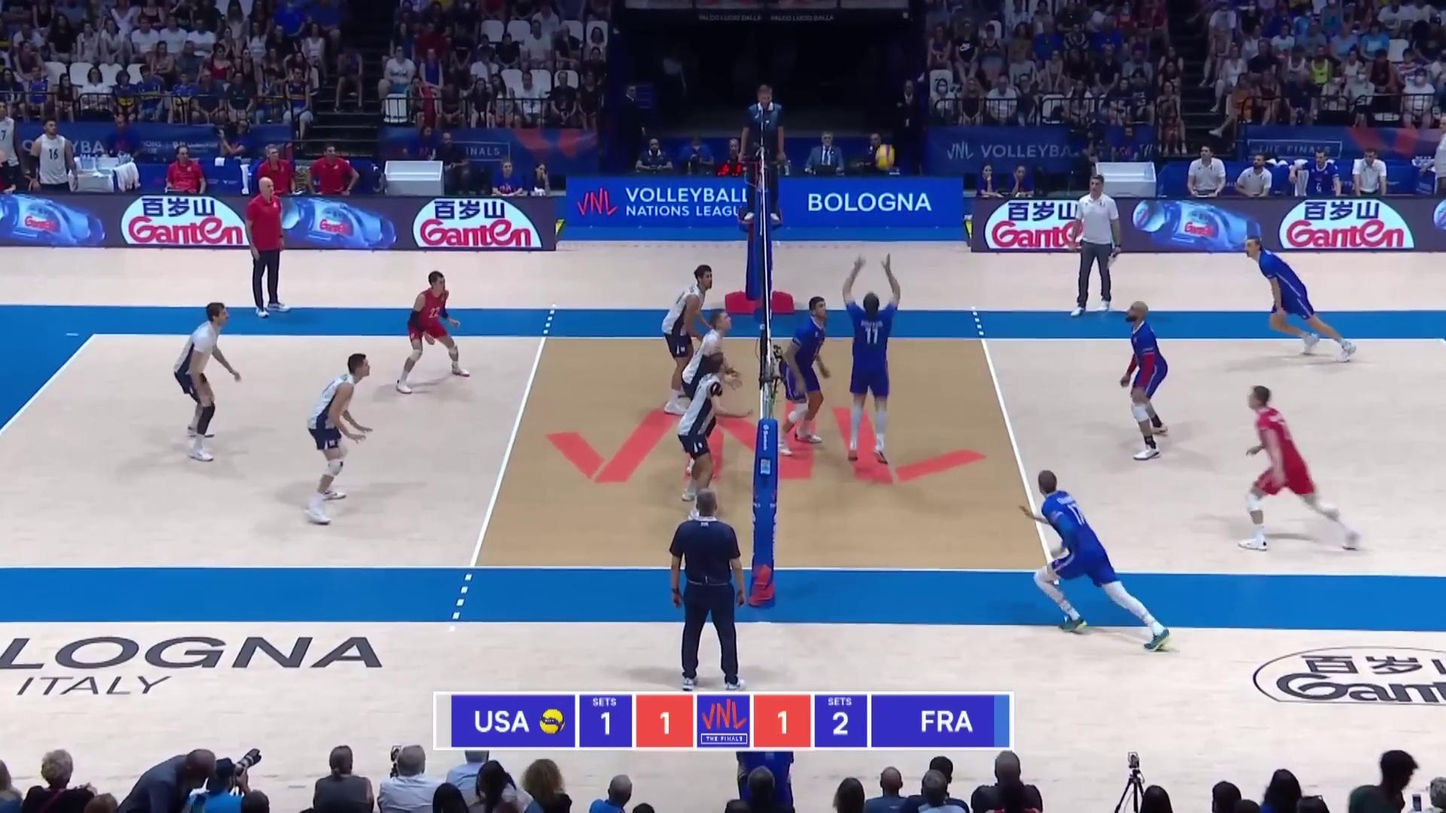player: (1030, 469, 1180, 648), (1236, 386, 1359, 549), (1242, 237, 1356, 369), (836, 260, 896, 471), (306, 359, 374, 526), (677, 354, 752, 504), (676, 309, 740, 478), (172, 305, 240, 462), (660, 262, 719, 408), (401, 270, 473, 387), (1118, 305, 1168, 457), (783, 300, 831, 454)
refree: (665, 492, 743, 690), (741, 85, 788, 227)
